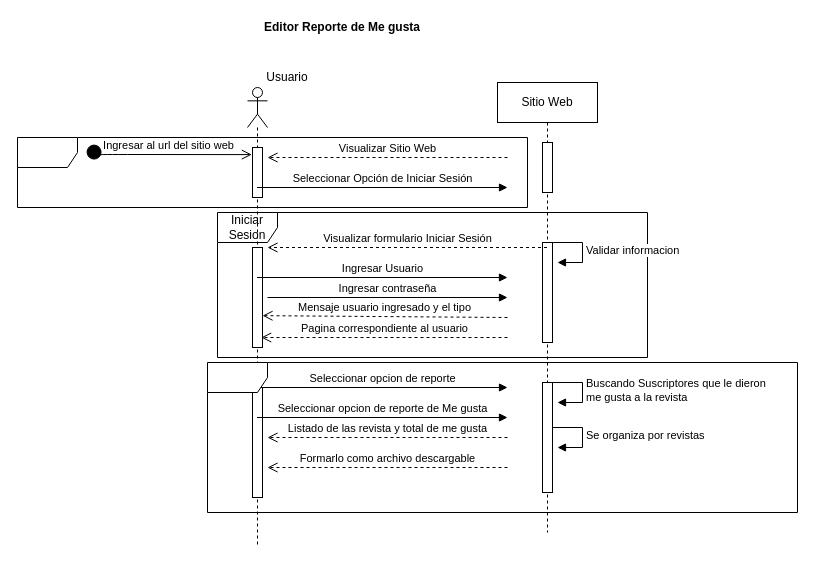
The diagram is 815 pixels wide and 565 high, and some of its shapes have lost their labels. The shapes that lost their labels are listed below. From the top down, each one's centre as x and y in pixels, then its label:
At pixel 272 172: "Ingresar Pagina".
At pixel 502 437: "Reporte".
